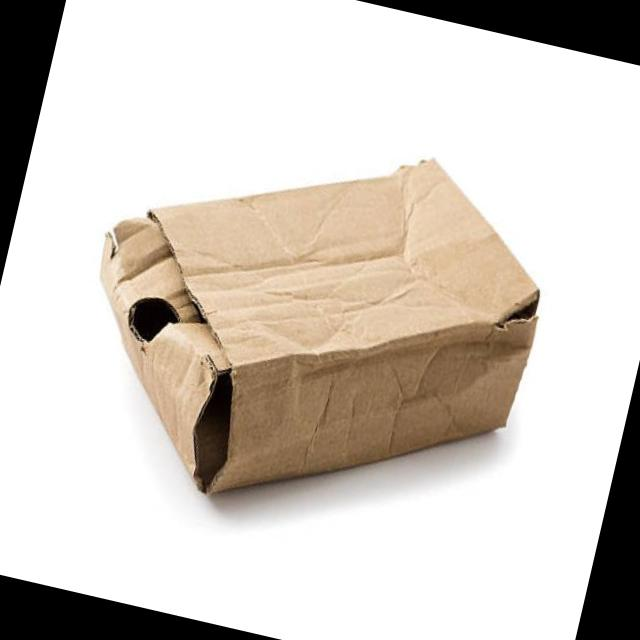box: (99, 158, 542, 499)
crushed: (98, 158, 540, 499)
opened: (190, 360, 240, 494), (123, 289, 189, 349), (489, 281, 537, 340)
